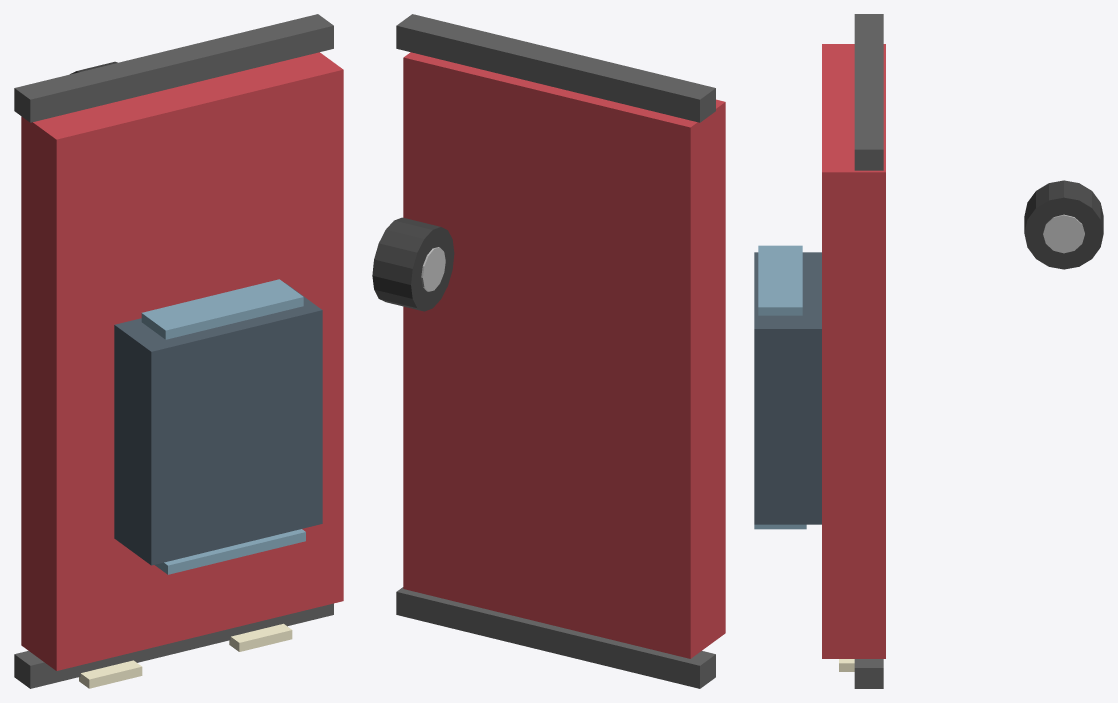
The model's file is low_poly_sports_car.glb.
3 renders of one model, left to right at view 1: azimuth 30°, elevation 25°; view 2: azimuth 150°, elevation 25°; view 3: azimuth 270°, elevation 25°, orthographic. The views are drawn at different scales.
Parts seen in each view (by area): view 1: car_body_red, car_cabin_dark, car_rear_bumper, car_rear_windshield, car_front_bumper, car_front_windshield, car_headlight_L, car_headlight_R; view 2: car_body_red, car_rear_bumper, car_front_bumper, car_wheel, car_hubcap; view 3: car_body_red, car_cabin_dark, car_rear_bumper, car_wheel, car_rear_windshield, car_hubcap, car_front_bumper.
Part boxes in pixels (left/top/right/bottom): car_body_red: left=21, top=52, right=343, bottom=670; car_cabin_dark: left=114, top=283, right=322, bottom=565; car_rear_bumper: left=14, top=14, right=333, bottom=122; car_rear_windshield: left=141, top=279, right=303, bottom=339; car_front_bumper: left=14, top=603, right=333, bottom=688; car_front_windshield: left=155, top=529, right=305, bottom=574; car_headlight_L: left=79, top=660, right=142, bottom=688; car_headlight_R: left=229, top=623, right=292, bottom=651; car_body_red: left=403, top=52, right=725, bottom=658; car_rear_bumper: left=396, top=14, right=715, bottom=122; car_front_bumper: left=396, top=587, right=715, bottom=688; car_wheel: left=372, top=217, right=454, bottom=311; car_hubcap: left=421, top=247, right=445, bottom=291; car_body_red: left=822, top=44, right=885, bottom=658; car_cabin_dark: left=754, top=252, right=821, bottom=524; car_rear_bumper: left=854, top=14, right=883, bottom=170; car_wheel: left=1024, top=180, right=1103, bottom=269; car_rear_windshield: left=758, top=245, right=802, bottom=315; car_hubcap: left=1043, top=214, right=1084, bottom=253; car_front_bumper: left=854, top=659, right=883, bottom=688.
Size of the model in its own units: 2.75 by 5.15 by 3.
